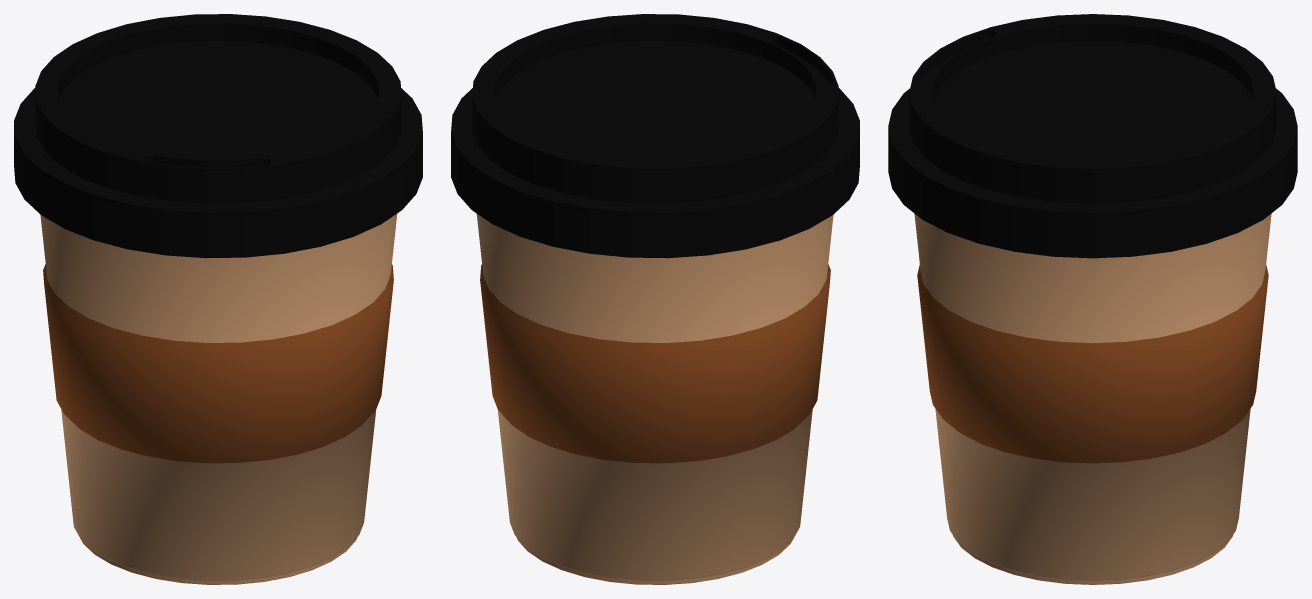
File: Copo.fbx
The picture shows the model from 3 angles, left to right: view 1: azimuth 30°, elevation 25°; view 2: azimuth 150°, elevation 25°; view 3: azimuth 270°, elevation 25°; orthographic projection.
Visible parts, largest first — view 1: Copo; view 2: Copo; view 3: Copo.
Boxes of the visible parts, box(x1,y1,x2,y2) form: Copo: box(14, 14, 422, 584); Copo: box(451, 14, 859, 584); Copo: box(888, 14, 1297, 584).
Size of the model in its own units: 281 by 328 by 281.
1 material, 1 textured.
